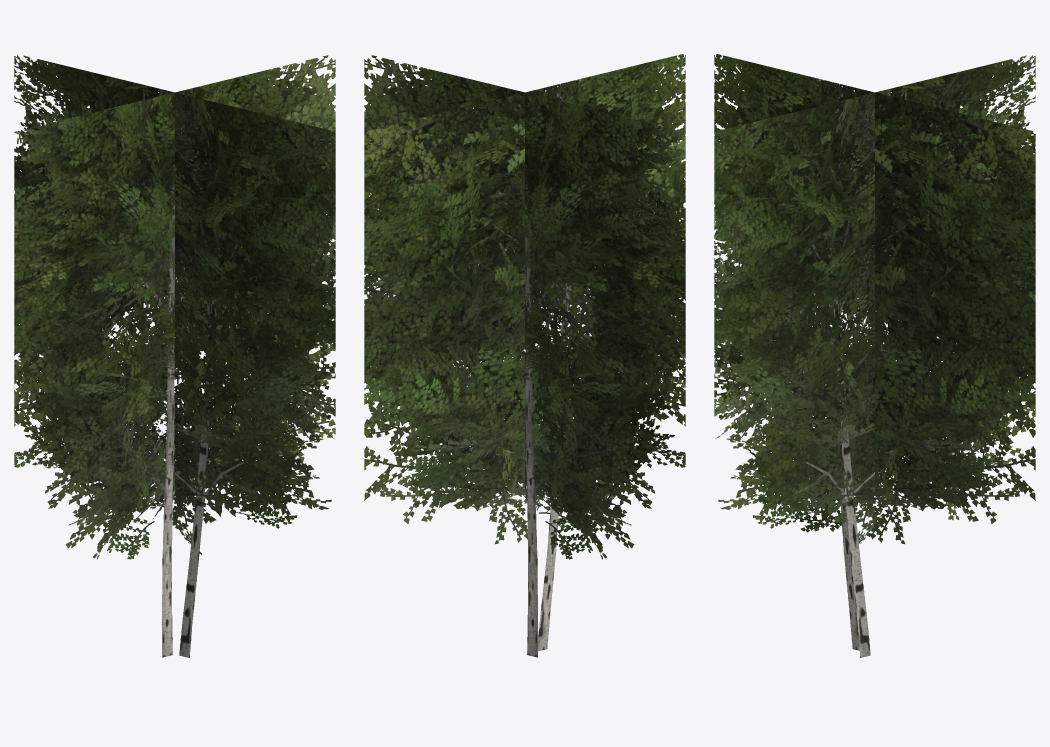
The model's file is briza_mlada_daleko.glb.
3 renders of one model, left to right at view 1: azimuth 30°, elevation 25°; view 2: azimuth 150°, elevation 25°; view 3: azimuth 270°, elevation 25°, orthographic.
Visible parts, largest first — view 1: briza_mlada_daleko; view 2: briza_mlada_daleko; view 3: briza_mlada_daleko.
Boxes of the visible parts, x1,y1,x2,y2 form: briza_mlada_daleko: [14, 55, 335, 657]; briza_mlada_daleko: [364, 54, 685, 657]; briza_mlada_daleko: [714, 54, 1035, 657].
Bounding box in the file's own units: 4.77 × 7.96 × 4.13.
Materials: 3 (3 with a texture image).
